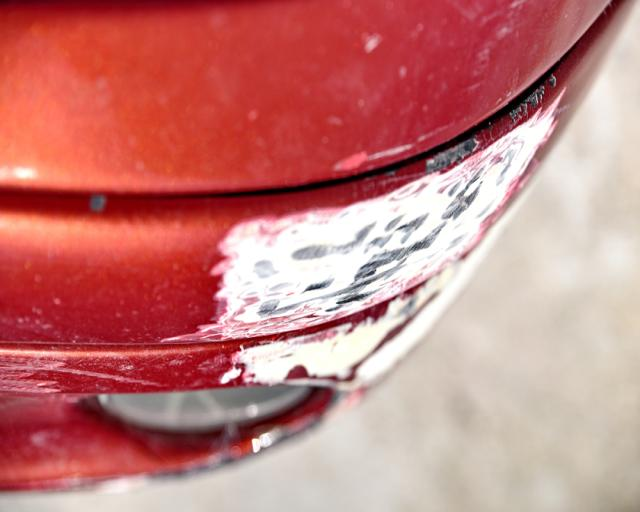scratch: (0, 77, 569, 401)
